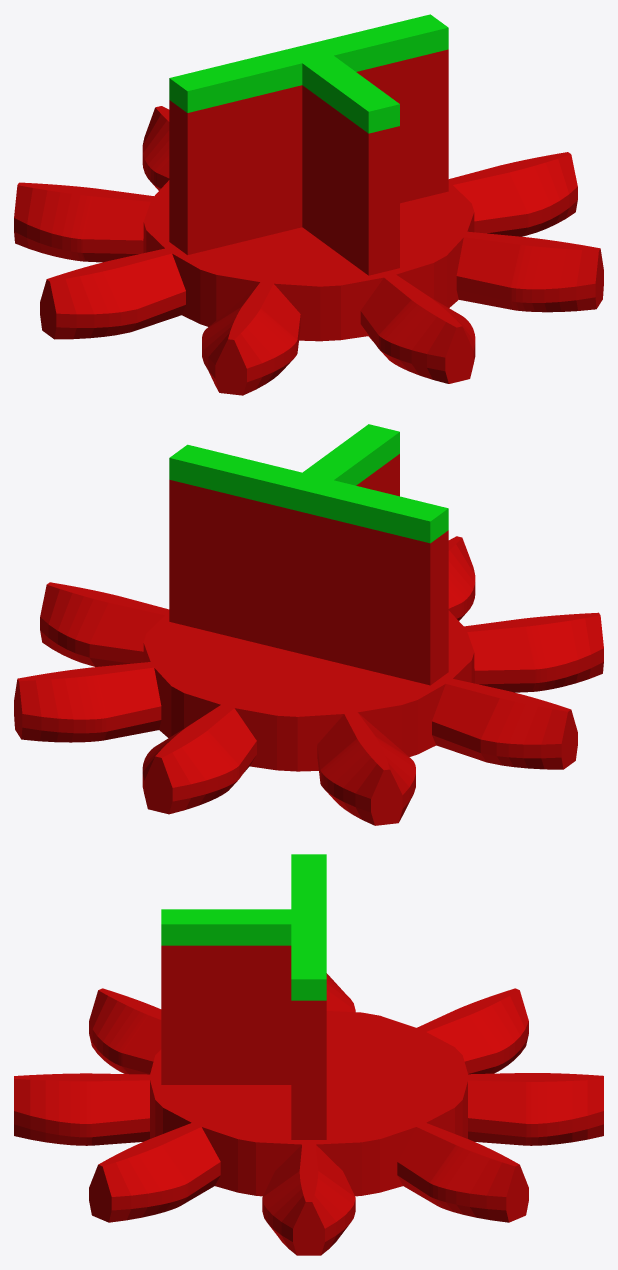
Rendered from gears-GearGreen.glb.
3 views of the same model, one above another, from view 1: azimuth 30°, elevation 25°; view 2: azimuth 150°, elevation 25°; view 3: azimuth 270°, elevation 25° (orthographic). The views are drawn at different scales.
Visible parts, largest first — view 1: Gear.001; view 2: Gear.001; view 3: Gear.001.
Boxes of the visible parts, x1,y1,x2,y2 form: Gear.001: (14, 14, 603, 395); Gear.001: (14, 424, 603, 825); Gear.001: (14, 854, 603, 1255).
Bounding box in the file's own units: 0.0999 × 0.04 × 0.0999.
